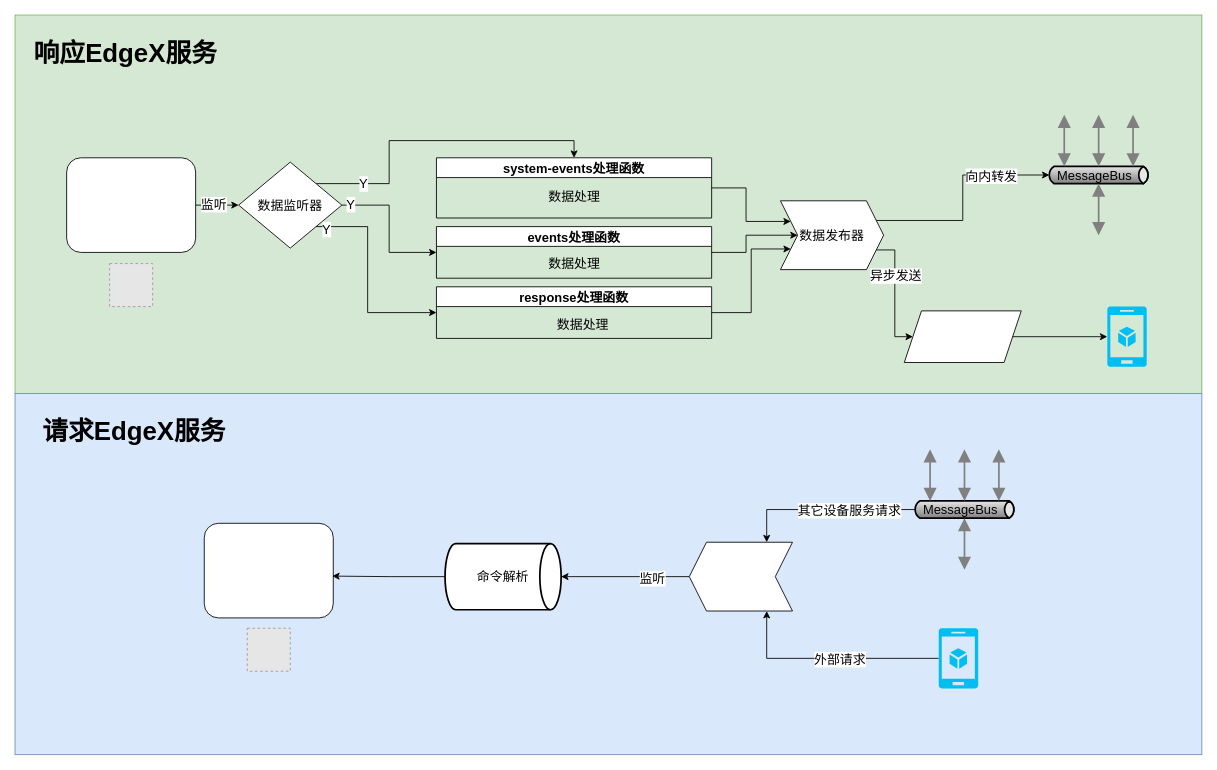
Image size: 1217x770. Some labels were removed from this diagram. Grey dashed boxes stand in for pictures. Here are the shapes that lost their labels. From the top down, the centre of each, then its label:
point (131, 204): 订阅 edgex/system-events/#、 edgex/events/#、 edgex/response/# 等相关服务
point (962, 336): 蓝牙模块发送器
point (268, 570): 请求 edgex/system-events/#、 edgex/events/#、 edgex/response/# 等相关服务
point (740, 576): 命令接收器
